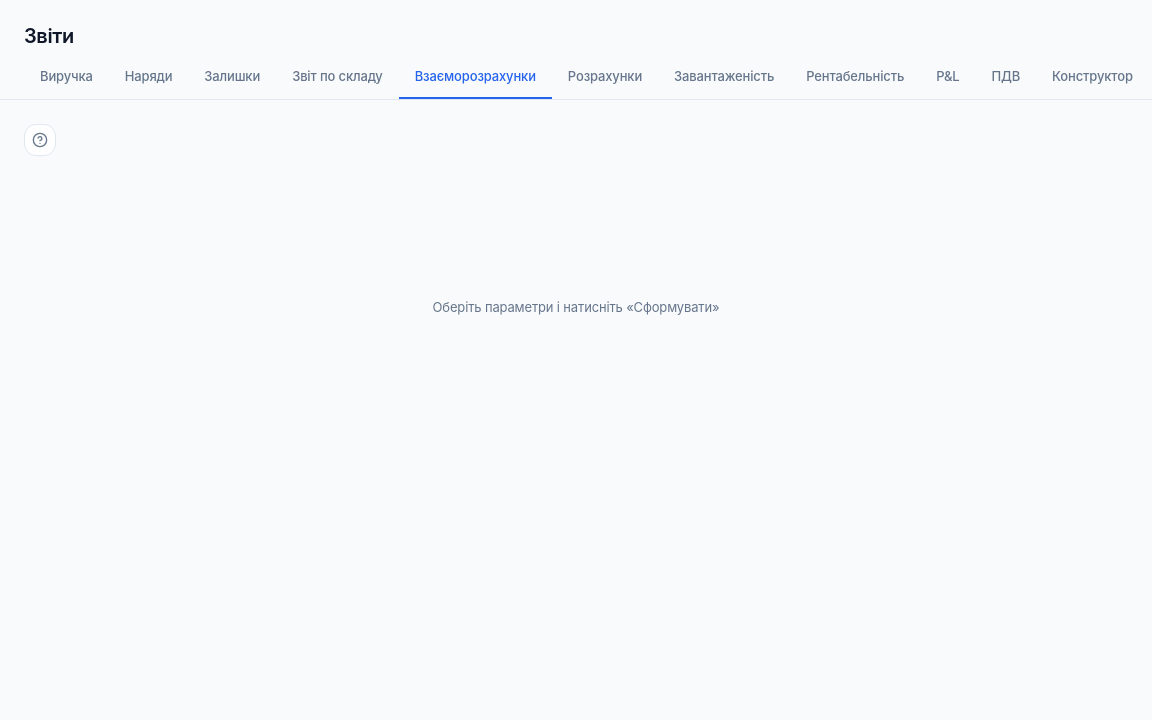
Test: Звіти — «?» за вкладкою › settlements: «?» пояснює саме цей звіт
The width and height of the screenshot is (1152, 720).
Click the button named "Як читати «Взаєморозрахунки»": {"x": 40, "y": 140} left=24, top=124, right=56, bottom=156
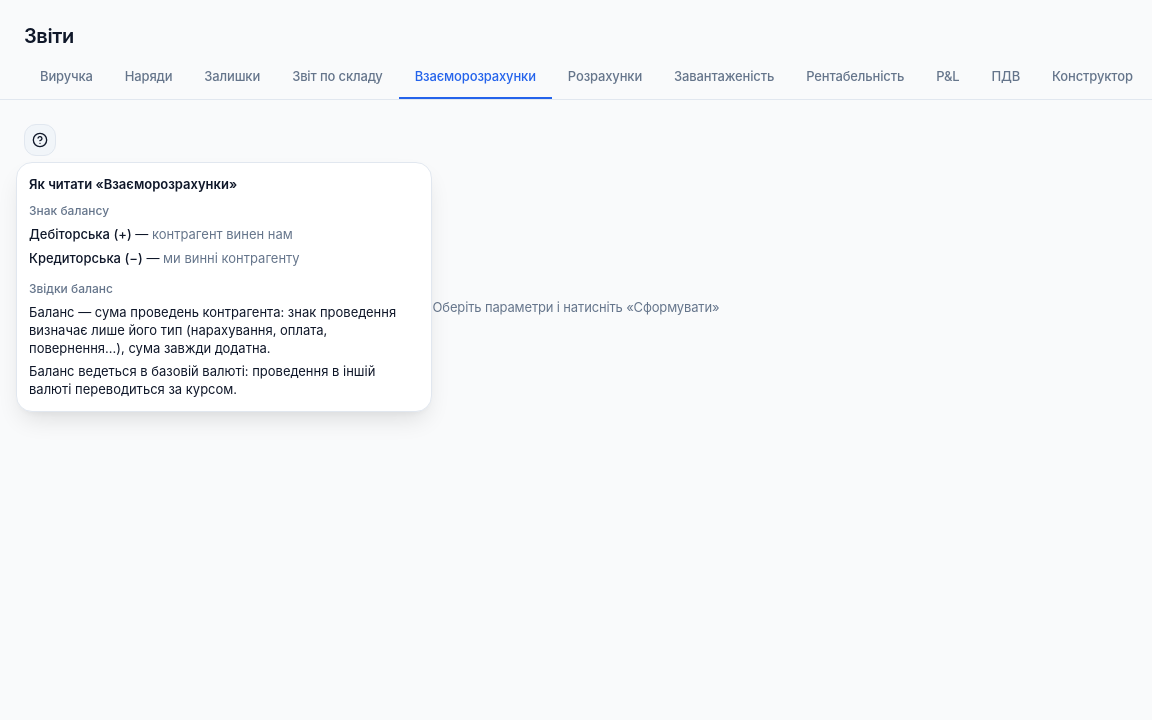
Check: the dialog shows "контрагент винен нам", box left=152, top=226, right=293, bottom=242
